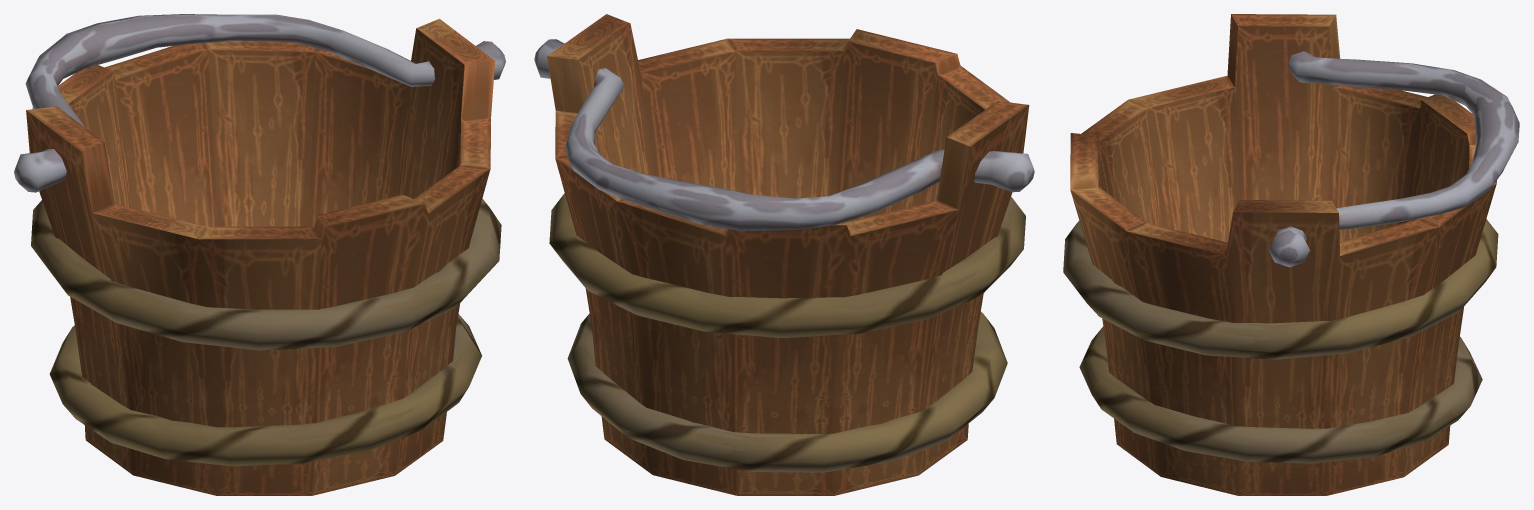
Rendered from Bucket_Wooden_1.gltf.
3 renders of one model, left to right at view 1: azimuth 30°, elevation 25°; view 2: azimuth 150°, elevation 25°; view 3: azimuth 270°, elevation 25°, orthographic. The views are drawn at different scales.
Parts seen in each view (by area): view 1: Bucket_Wooden_1; view 2: Bucket_Wooden_1; view 3: Bucket_Wooden_1.
Boxes of the visible parts, left/top/right/bottom form: Bucket_Wooden_1: left=14, top=14, right=505, bottom=495; Bucket_Wooden_1: left=534, top=14, right=1034, bottom=495; Bucket_Wooden_1: left=1063, top=14, right=1519, bottom=495.
Size of the model in its own units: 0.4339 by 0.2928 by 0.3835.
2 materials, 2 textured.
